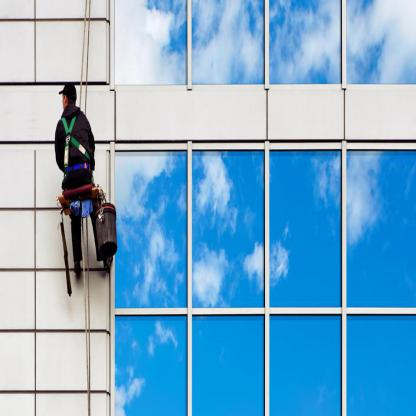window: (118, 160, 183, 302), (350, 156, 413, 302), (273, 158, 337, 301), (197, 161, 262, 301), (196, 322, 257, 411), (273, 325, 333, 411), (121, 324, 180, 410), (352, 324, 410, 411), (195, 6, 262, 77), (118, 9, 183, 77), (273, 9, 332, 81), (350, 9, 412, 77)
